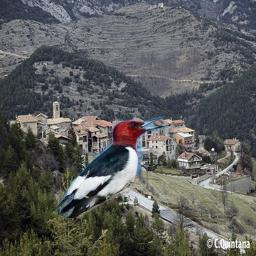Woodpecker: (54, 115, 167, 218)
